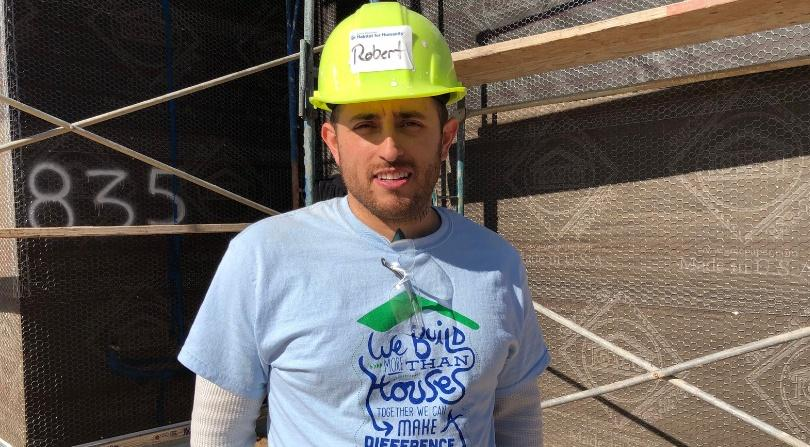helmet: (308, 1, 468, 116)
